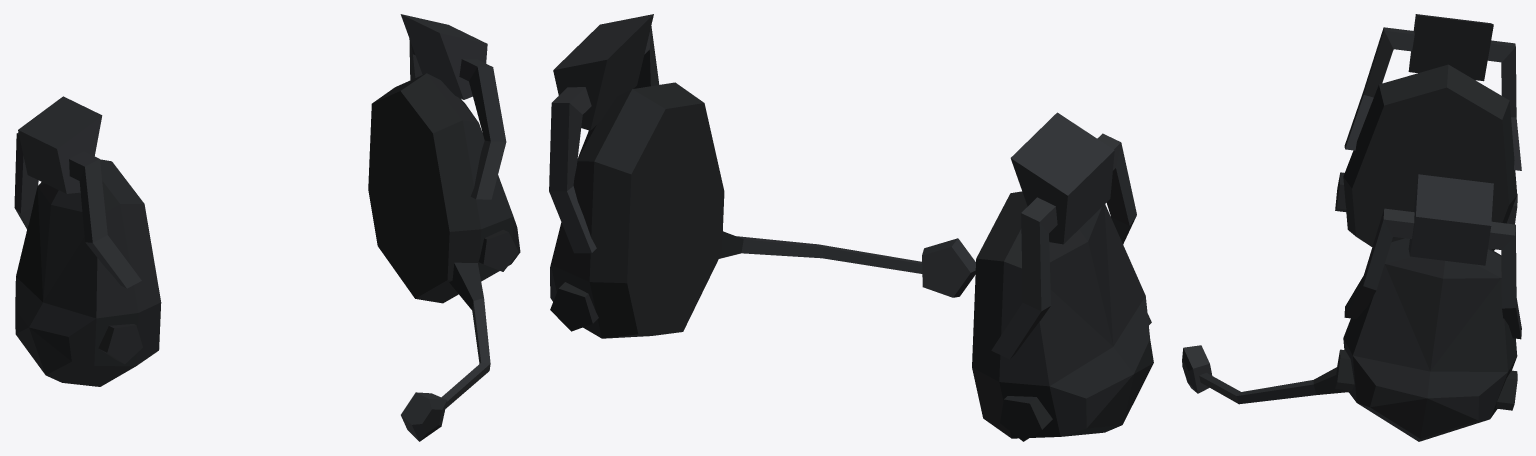
The model's file is SM_Chr_Attach_Headset_01.fbx.
The picture shows the model from 3 angles, left to right: view 1: azimuth 30°, elevation 25°; view 2: azimuth 150°, elevation 25°; view 3: azimuth 270°, elevation 25°; orthographic projection. The views are drawn at different scales.
Visible parts, largest first — view 1: SM_Chr_Attach_Headset_01; view 2: SM_Chr_Attach_Headset_01; view 3: SM_Chr_Attach_Headset_01.
Boxes of the visible parts, x1,y1,x2,y2 form: SM_Chr_Attach_Headset_01: (14,14,520,441); SM_Chr_Attach_Headset_01: (549,14,1153,441); SM_Chr_Attach_Headset_01: (1182,14,1521,441).
Size of the model in its own units: 34.21 by 19.91 by 21.98.
